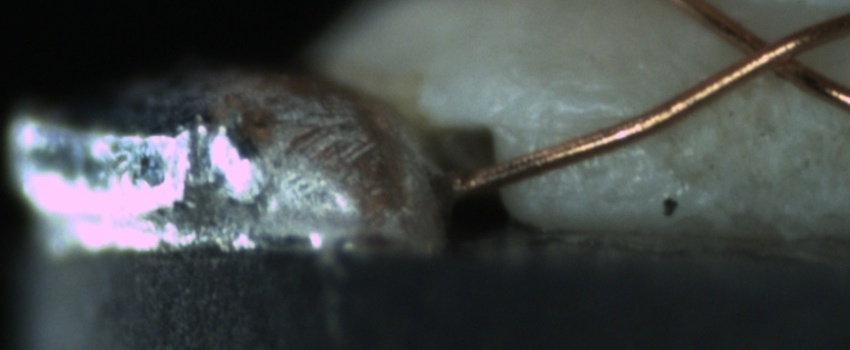CL: (715, 15, 825, 87)
DL: (520, 87, 641, 146)
